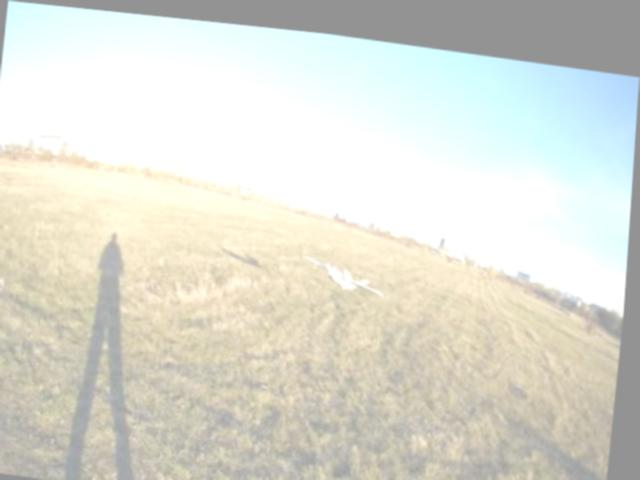uav: (296, 241, 394, 302)
